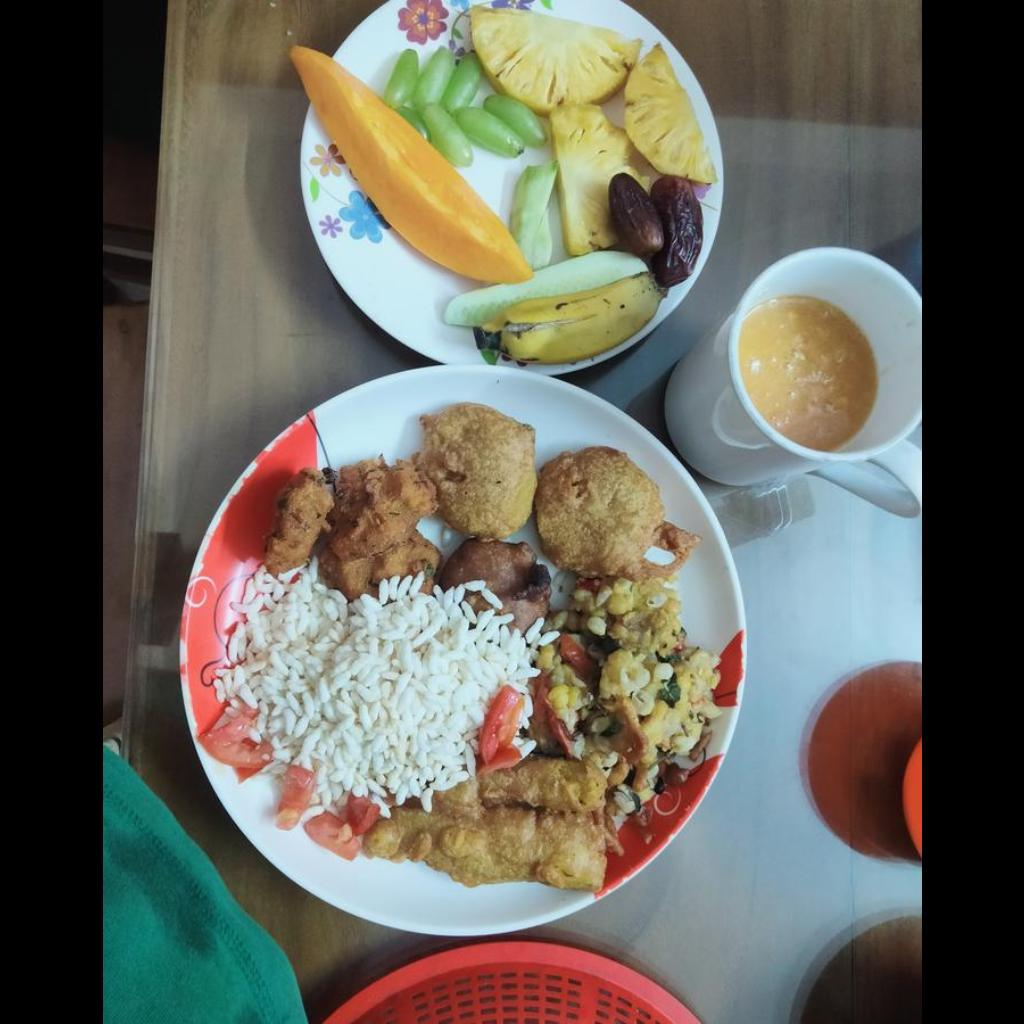banana: (477, 277, 673, 362)
beguni: (366, 757, 605, 891), (437, 539, 548, 629)
chop-alu: (409, 404, 695, 578)
cucumber: (442, 160, 646, 327)
daal: (531, 576, 732, 818)
dates: (608, 173, 702, 291)
grapes: (394, 47, 540, 159)
juice: (741, 307, 869, 445)
mango: (294, 44, 524, 283)
peyaju: (270, 466, 437, 586)
pineapple: (472, 15, 726, 247)
puffed-rice: (212, 565, 554, 821)
